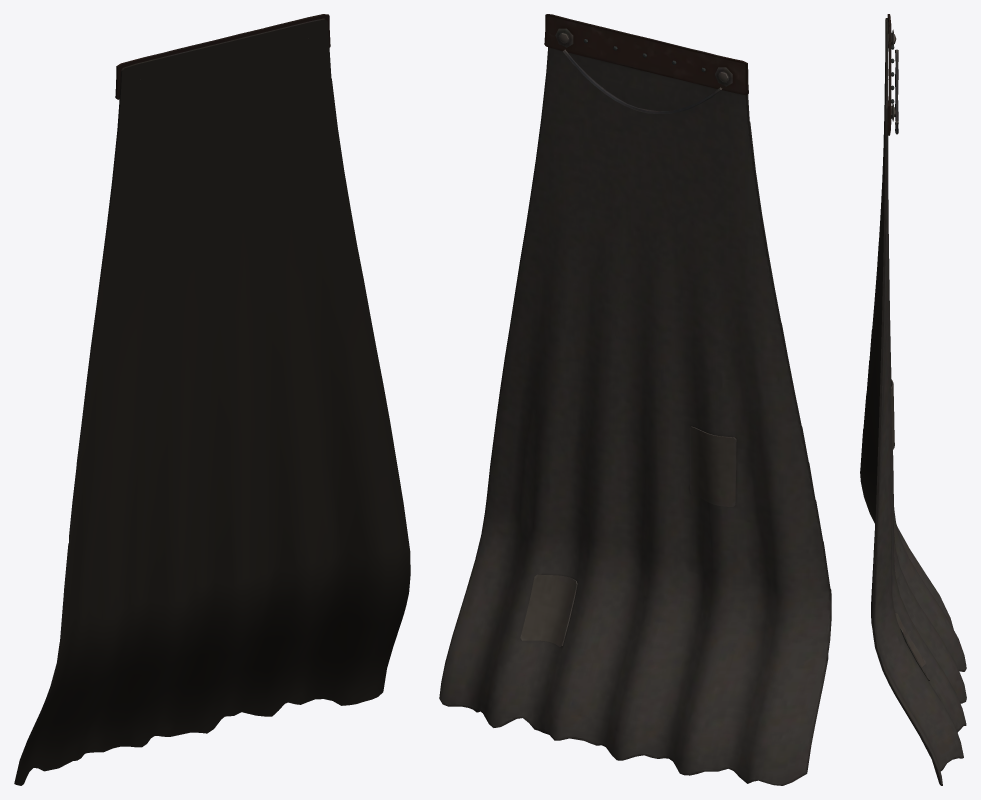
Rendered from cape_ashforged.glb.
3 views of the same model, side by side, from view 1: azimuth 30°, elevation 25°; view 2: azimuth 150°, elevation 25°; view 3: azimuth 270°, elevation 25° (orthographic). The views are drawn at different scales.
Visible parts, largest first — view 1: cape; view 2: cape; view 3: cape.
Part boxes in pixels (<box>): cape: <box>14,14,410,785</box>; cape: <box>439,14,831,785</box>; cape: <box>860,14,966,785</box>.
Size of the model in its own units: 0.5494 by 1.01 by 0.1507.
1 material, 1 textured.
